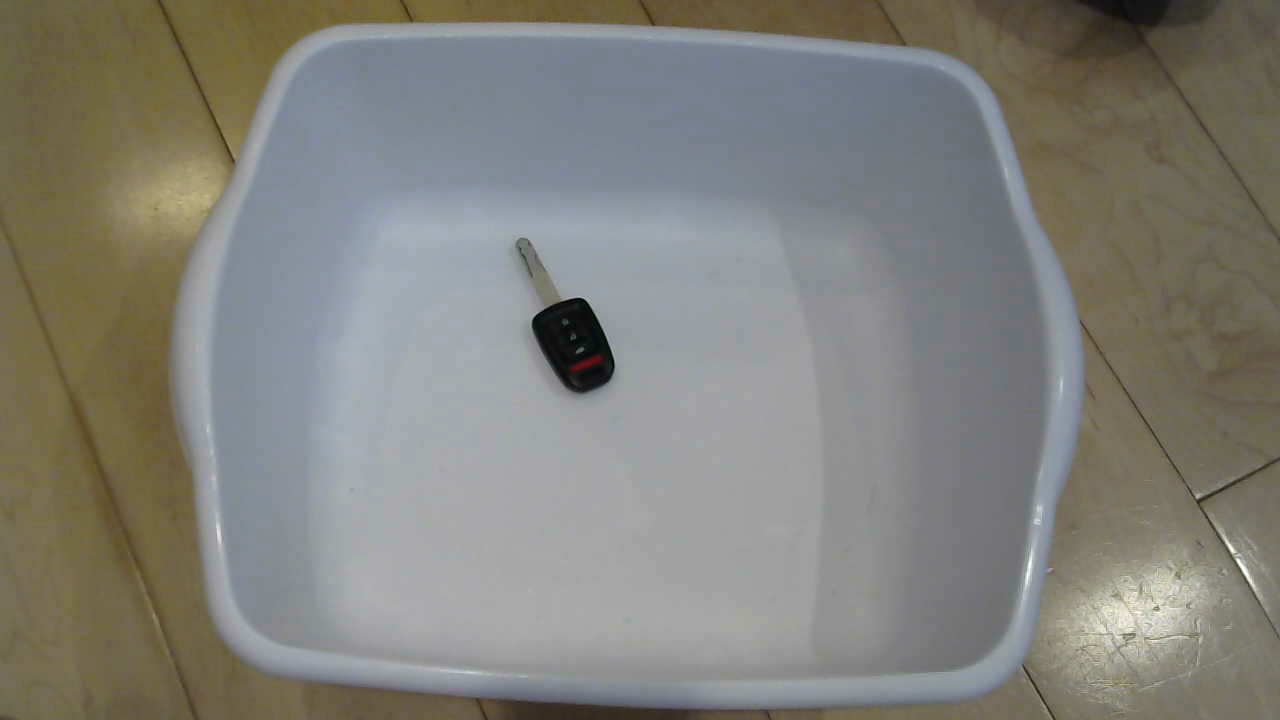key: (489, 232, 643, 406)
